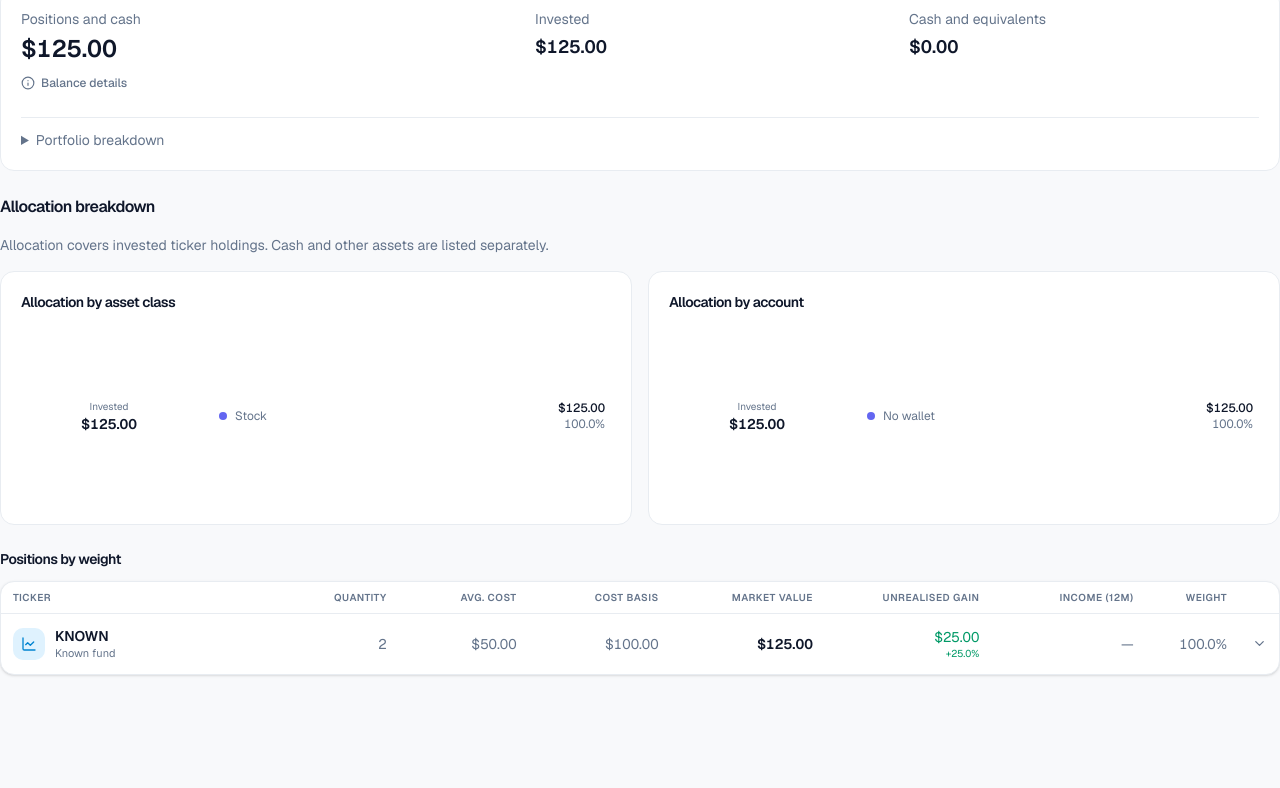
Test: shows exact quantity qualification before an empty or snapshot hint: snapshot=false
Click the button "KNOWN" at point(640, 644), box [1,614,1279,674]
(page scrolled)
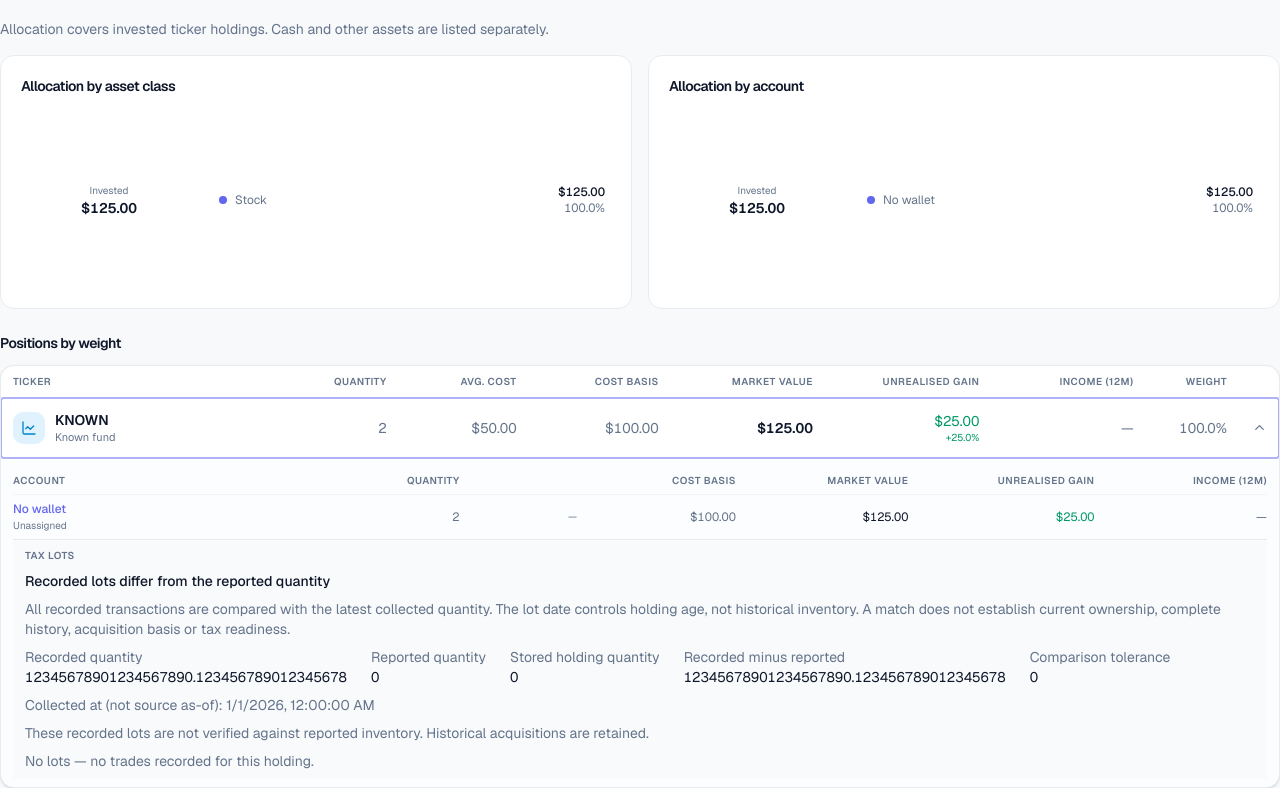
Expected: the text "Recorded lots differ from the reported quantity" is shown, [25,572,330,590]
Expected: the 1st text "0" is shown, [371,668,379,686]
Expected: the text "12345678901234567890.123456789012345678" is shown 2 times, [25,667,347,687]; [684,667,1006,687]
